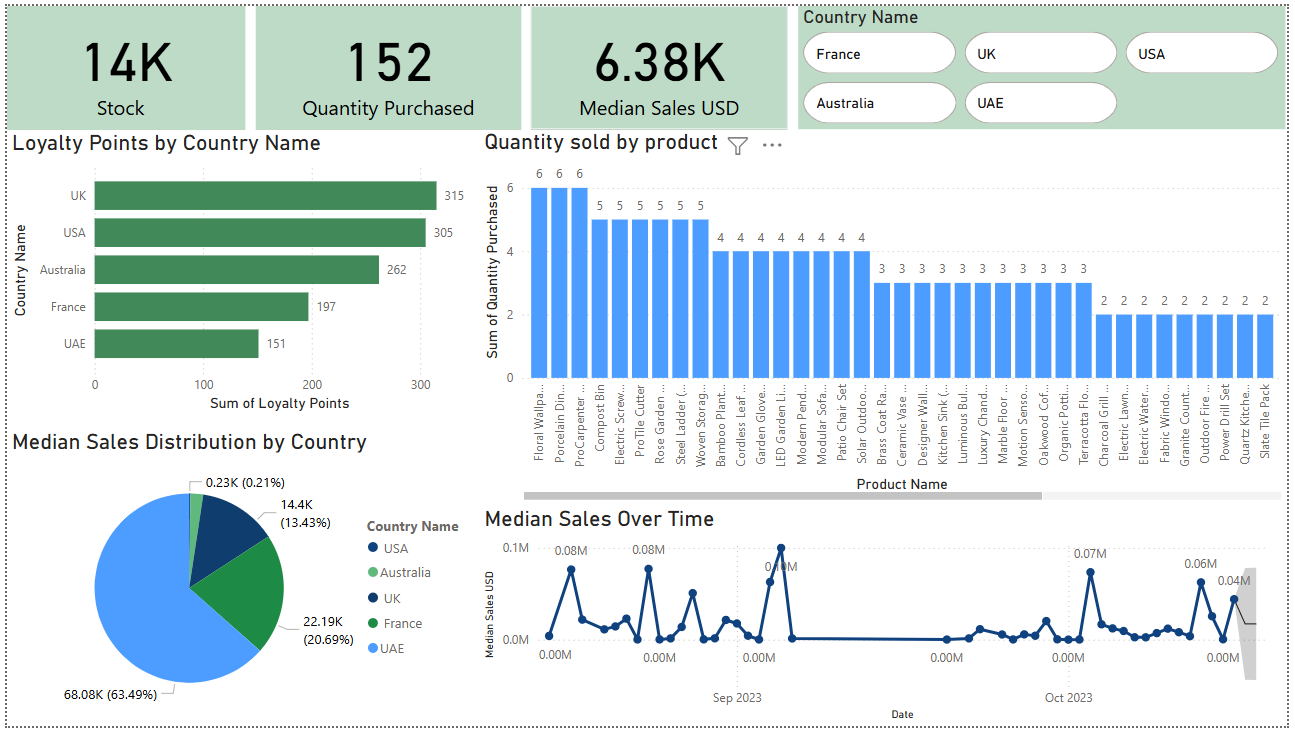

This screenshot's page, from the dashboard's own definition file:
{"tool":"powerbi","page":{"name":"USD Sales Overview","canvas":[1280,720],"ordinal":1},"visuals":[{"type":"clusteredBarChart","title":"Loyalty Points by Country Name","fields":{"Y":["Sum(Sales in USD. Loyalty Points)"],"Category":["Sales in USD.Country Name"]},"box":[0,124.3,472.9,287.1],"z":0},{"type":"clusteredColumnChart","title":"Quantity sold by product ","fields":{"Y":["Sum(Sales in USD.Quantity Purchased)"],"Category":["Sales in USD.Product Name"]},"box":[472.9,123.1,807.1,376.4],"z":1000},{"type":"pieChart","title":"Median Sales Distribution by Country","fields":{"Category":["Sales in USD.Country Name"],"Y":["Sales in USD.Median Sales"]},"box":[0,422.9,472.9,295.7],"z":2000},{"type":"lineChart","title":"Median Sales Over Time","fields":{"Y":["Sales in USD.Median Sales"],"Category":["Calendar.Date"]},"box":[472.9,499.5,805.9,219.6],"z":3000},{"type":"card","fields":{"Values":["Sum(Sales in USD. Stock  )"]},"box":[0,0,238.6,124.3],"z":4000},{"type":"card","fields":{"Values":["Sum(Sales in USD.Quantity Purchased)"]},"box":[248.6,0,265.7,124.3],"z":5000},{"type":"card","fields":{"Values":["Sales in USD.Median Sales"]},"box":[524.3,0,257.1,124.3],"z":6000},{"type":"advancedSlicerVisual","fields":{"Values":["Sales in USD.Country Name"]},"box":[791.4,0,487.1,122.9],"z":7000}]}

Visuals, with their boxes in screenshot pixels (x1, y1, x2, y2), scaled from the page's 1280x720 canvas onto the 1295x733 screenshot:
"Loyalty Points by Country Name" clusteredBarChart: box=[0, 127, 478, 419]
"Quantity sold by product " clusteredColumnChart: box=[478, 125, 1294, 509]
"Median Sales Distribution by Country" pieChart: box=[0, 431, 478, 732]
"Median Sales Over Time" lineChart: box=[478, 509, 1294, 732]
card - Sum(Sales in USD. Stock  ): box=[0, 0, 241, 127]
card - Sum(Sales in USD.Quantity Purchased): box=[252, 0, 520, 127]
card - Sales in USD.Median Sales: box=[530, 0, 791, 127]
advancedSlicerVisual - Sales in USD.Country Name: box=[801, 0, 1293, 125]
